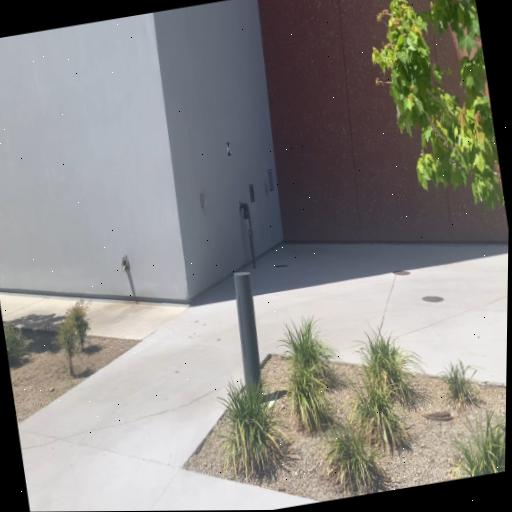target3: (226, 142, 231, 155)
